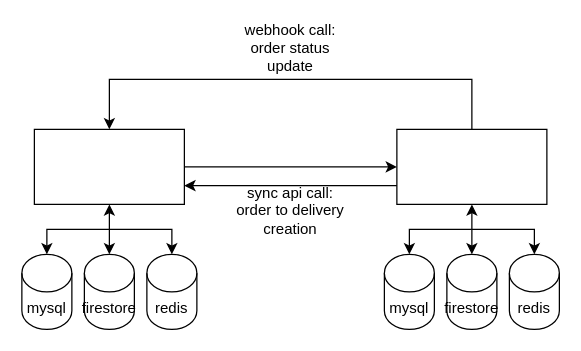
Image size: 581x351. Some labels were removed from this diagram. The centre of each missing label's shape, as x and y in pixels:
delivery microservice: [471,166]
ecommerce microservice: [108,166]
